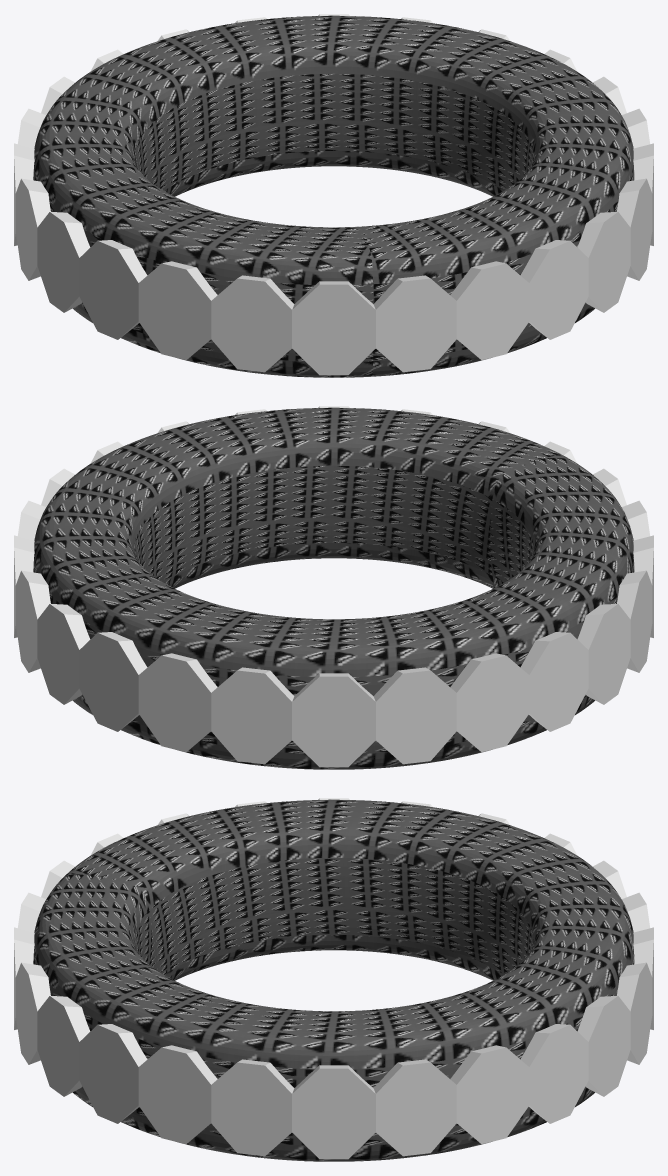
Rendered from Wheel 1.fbx.
The picture shows the model from 3 angles, top to bottom: view 1: azimuth 30°, elevation 25°; view 2: azimuth 150°, elevation 25°; view 3: azimuth 270°, elevation 25°; orthographic projection.
Visible parts, largest first — view 1: MainWheel, hexShell; view 2: MainWheel, hexShell; view 3: MainWheel, hexShell.
Boxes of the visible parts, x1,y1,x2,y2 form: MainWheel: (33,15,634,377); hexShell: (14,14,653,375); MainWheel: (33,407,634,769); hexShell: (14,406,653,767); MainWheel: (33,799,634,1161); hexShell: (14,798,653,1159).
Bounding box in the file's own units: 255 × 55.15 × 255.
